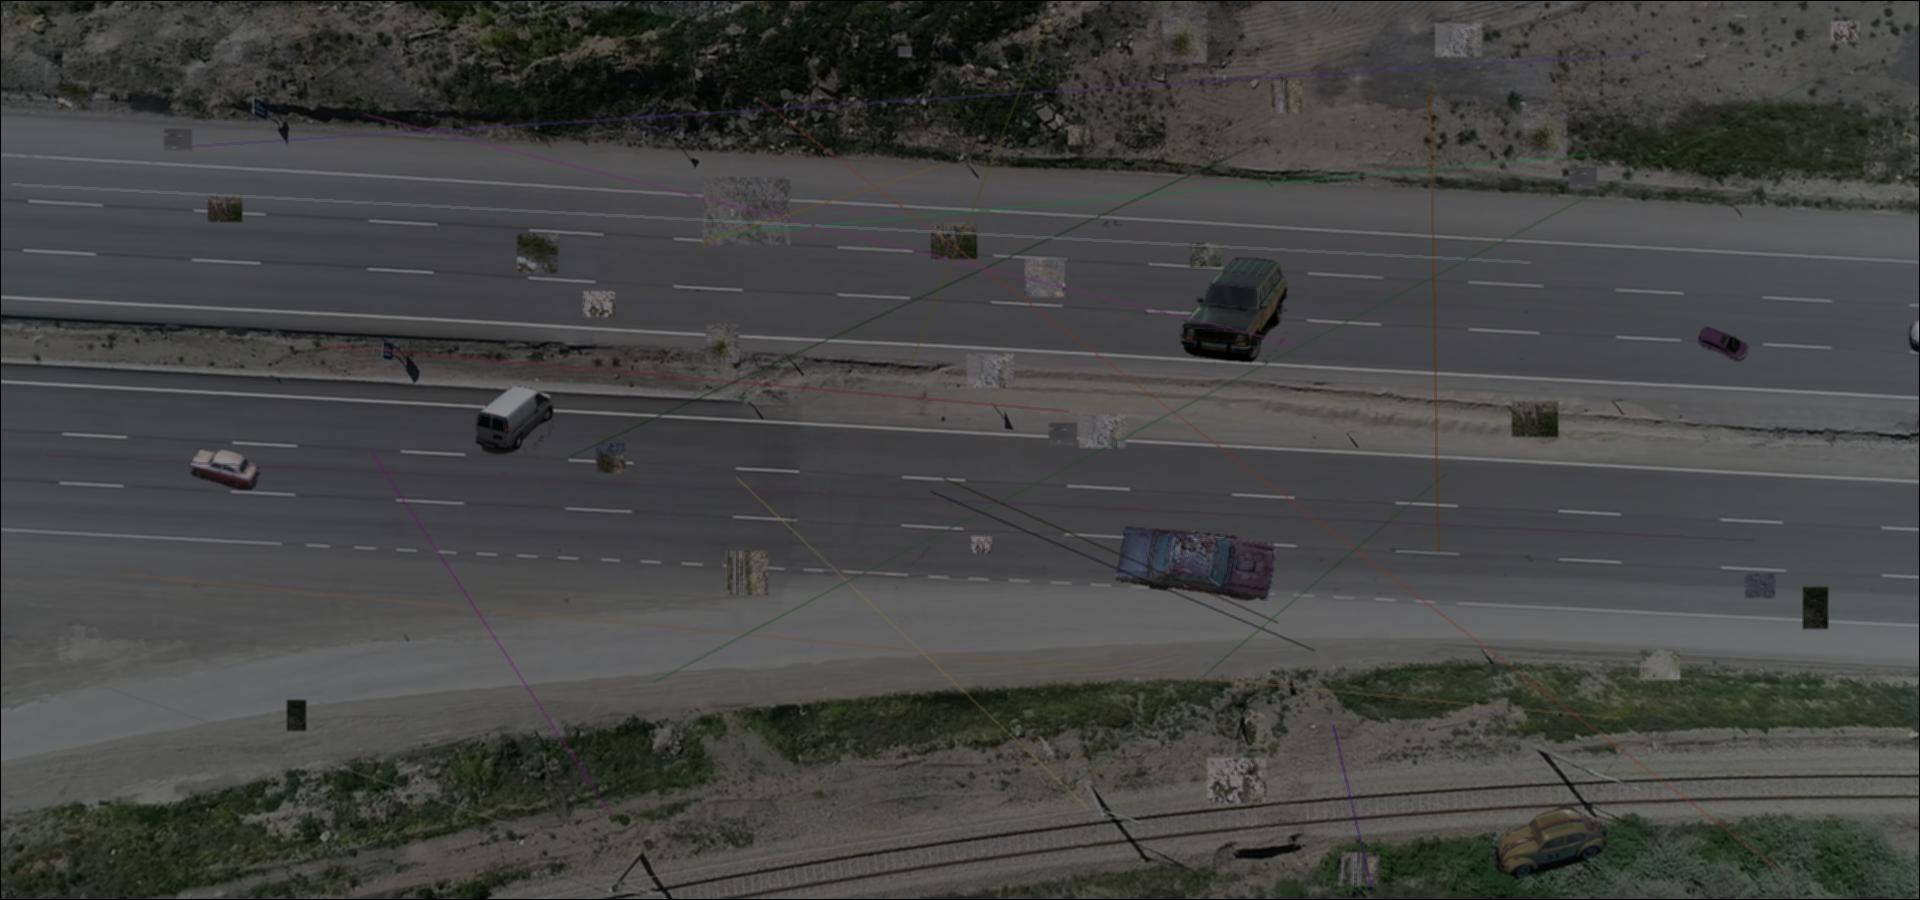arac: (1113, 520, 1277, 606), (1179, 256, 1287, 362), (1496, 804, 1607, 879), (476, 386, 553, 454), (185, 444, 261, 493), (1697, 324, 1749, 362)
